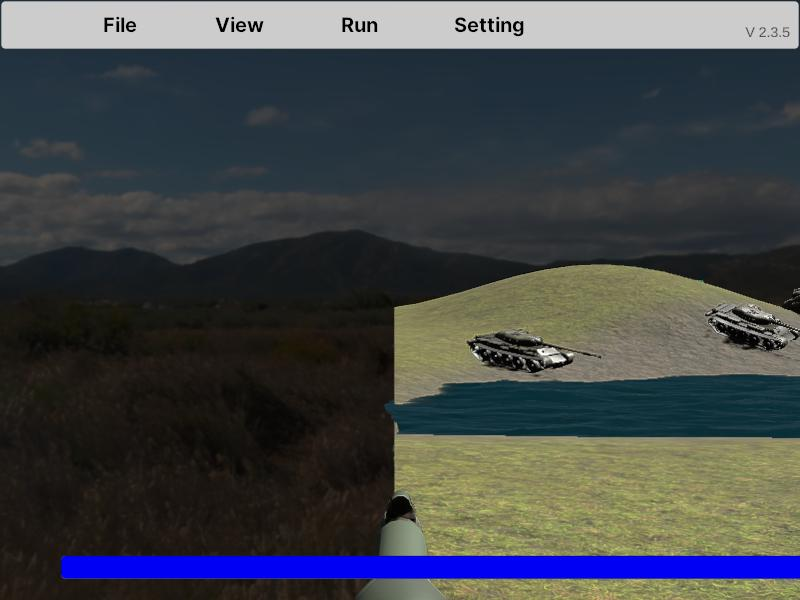Tank: (466, 328, 603, 374), (704, 302, 800, 352), (784, 283, 800, 319)
